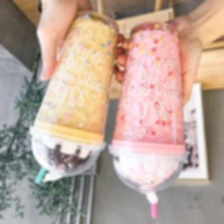glass: (26, 10, 123, 178), (106, 17, 192, 192)
